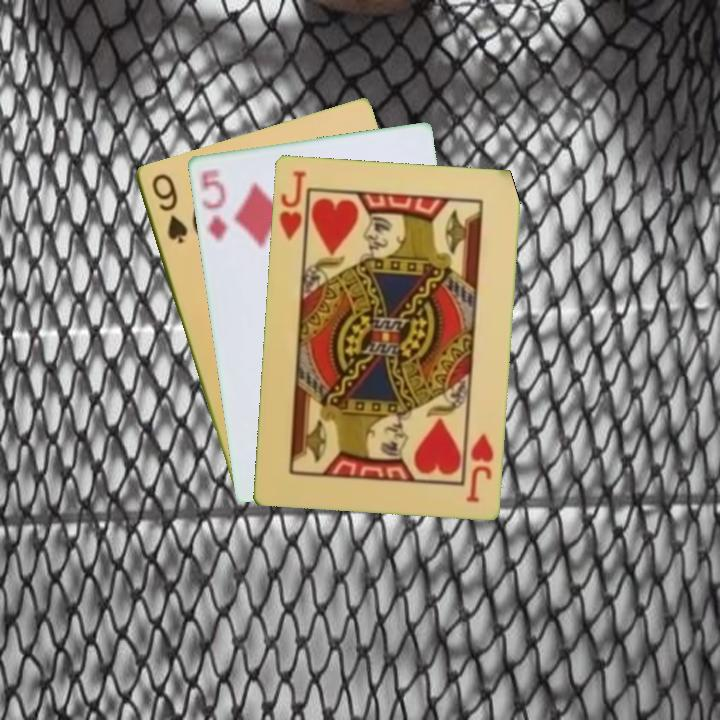5d: (198, 165, 230, 243)
9s: (147, 170, 191, 247)
Jh: (462, 429, 496, 505), (275, 166, 308, 243)
